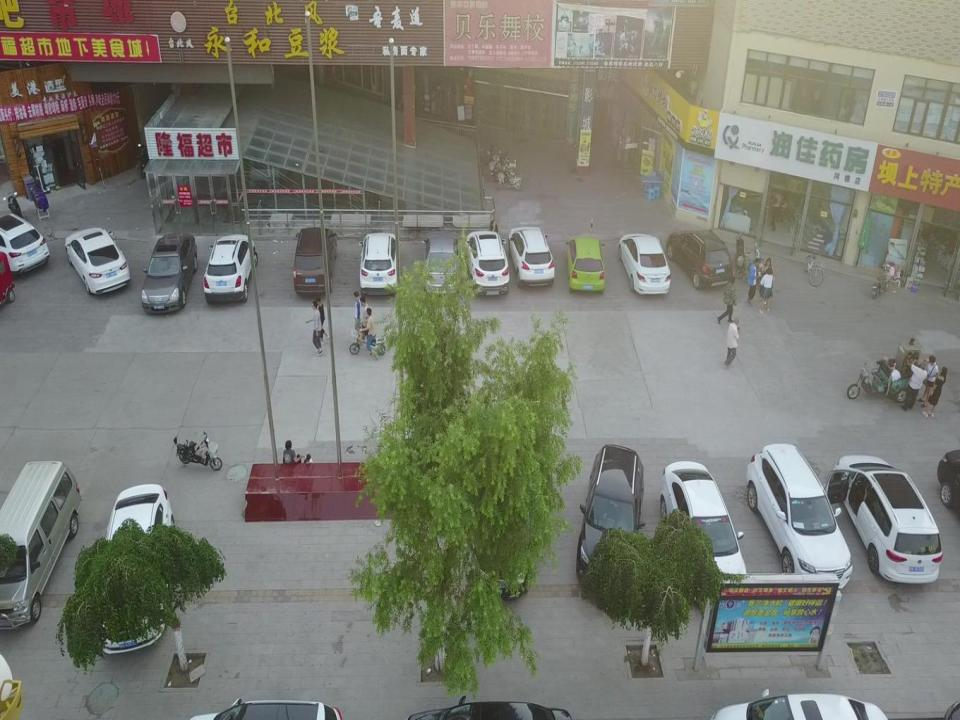car: (827, 446, 941, 600), (749, 438, 852, 594), (469, 422, 548, 606), (661, 457, 747, 613), (98, 484, 177, 652), (571, 438, 649, 598), (712, 691, 893, 720), (137, 230, 198, 314), (408, 691, 574, 720), (189, 690, 343, 720), (64, 227, 132, 293), (668, 225, 735, 288), (202, 232, 258, 303), (618, 230, 670, 294), (290, 225, 336, 296), (0, 212, 50, 275), (356, 231, 401, 296), (416, 231, 461, 296), (464, 230, 508, 296), (509, 225, 553, 290), (564, 234, 604, 294)
van: (0, 458, 80, 637)
